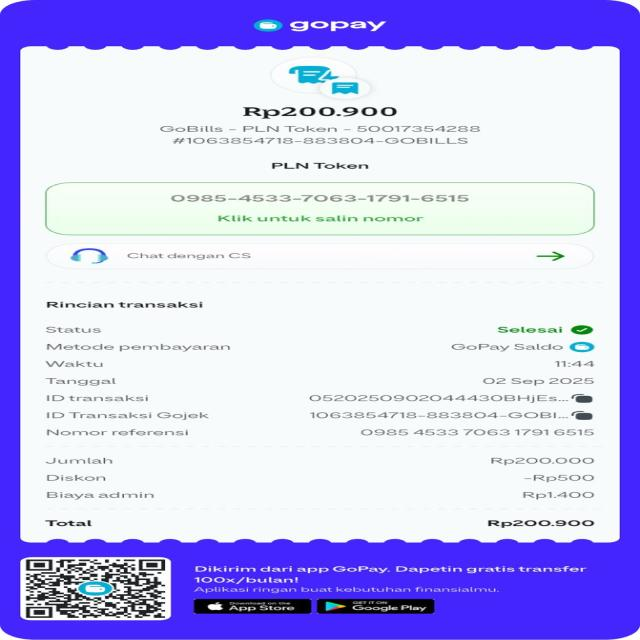date: (478, 375, 598, 389)
store: (264, 160, 381, 175)
total: (40, 516, 603, 530)
